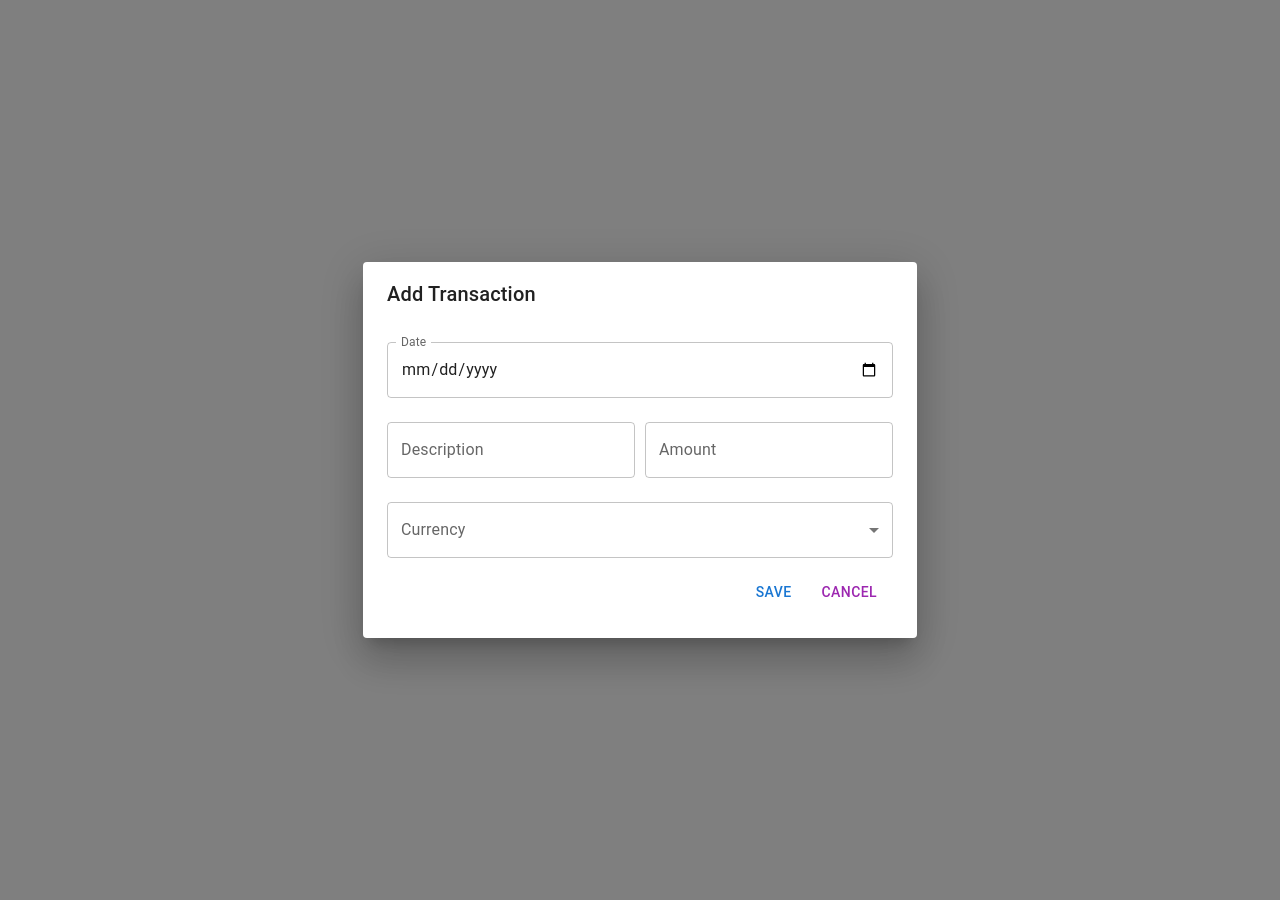
Scenario: AddTransaction Component › should show required field error when fields are empty
Click the button "Save". click: {"x": 774, "y": 592}
box: [742,574,806,610]
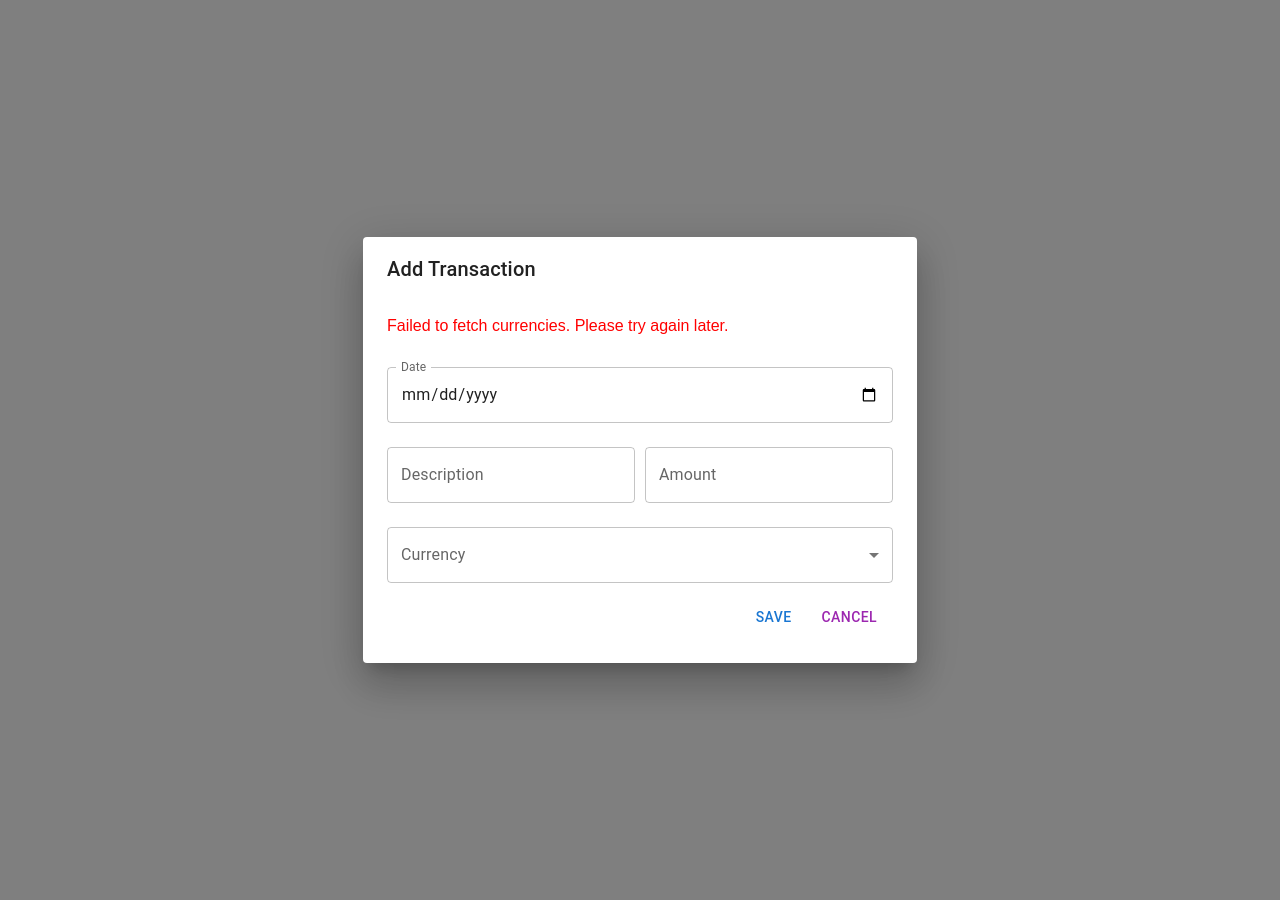
Expected: the text "All fields are required" is shown, [387,317,728,334]
